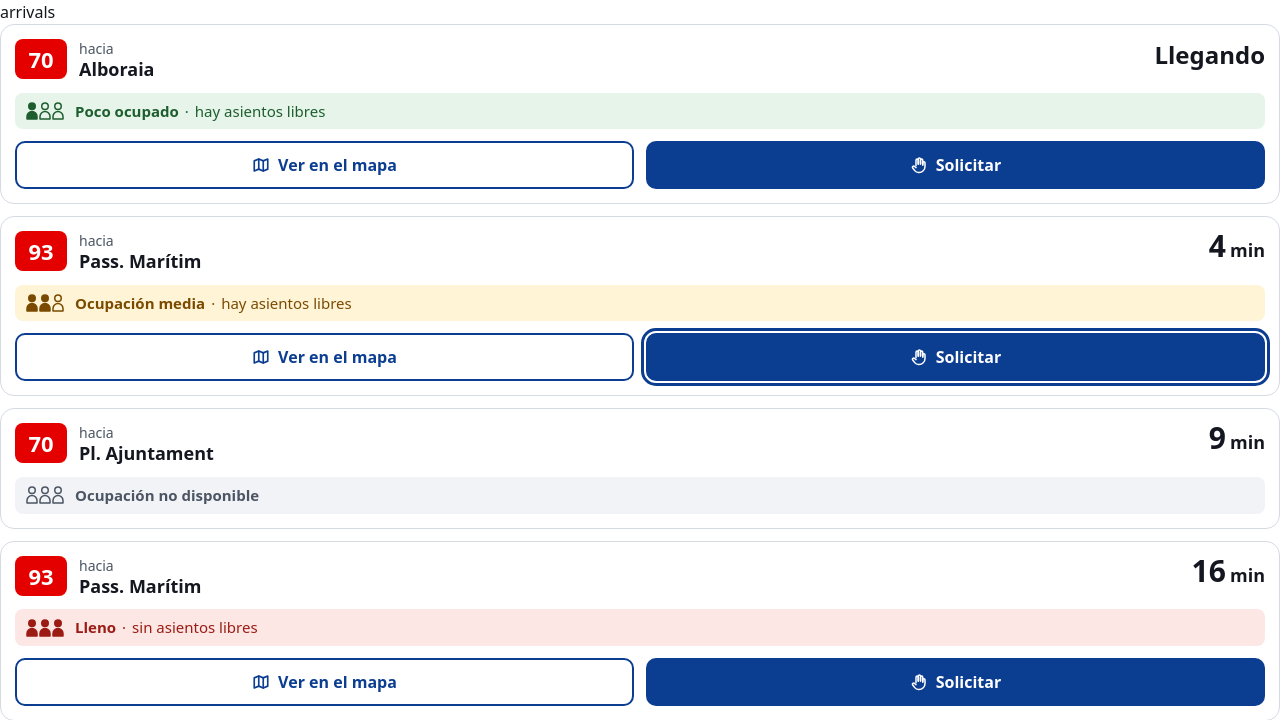
it: RequestDialog › [passenger_alert_ui.AC-04] "Solicitar" opens a modal dialog with the title, the arrival time and the needs preloaded
The width and height of the screenshot is (1280, 720).
Click the button named "Solicitar parada a la línea 93 hacia Passeig Marítim - Hospital Malva-rosa": (956, 357) [646,333,1265,381]
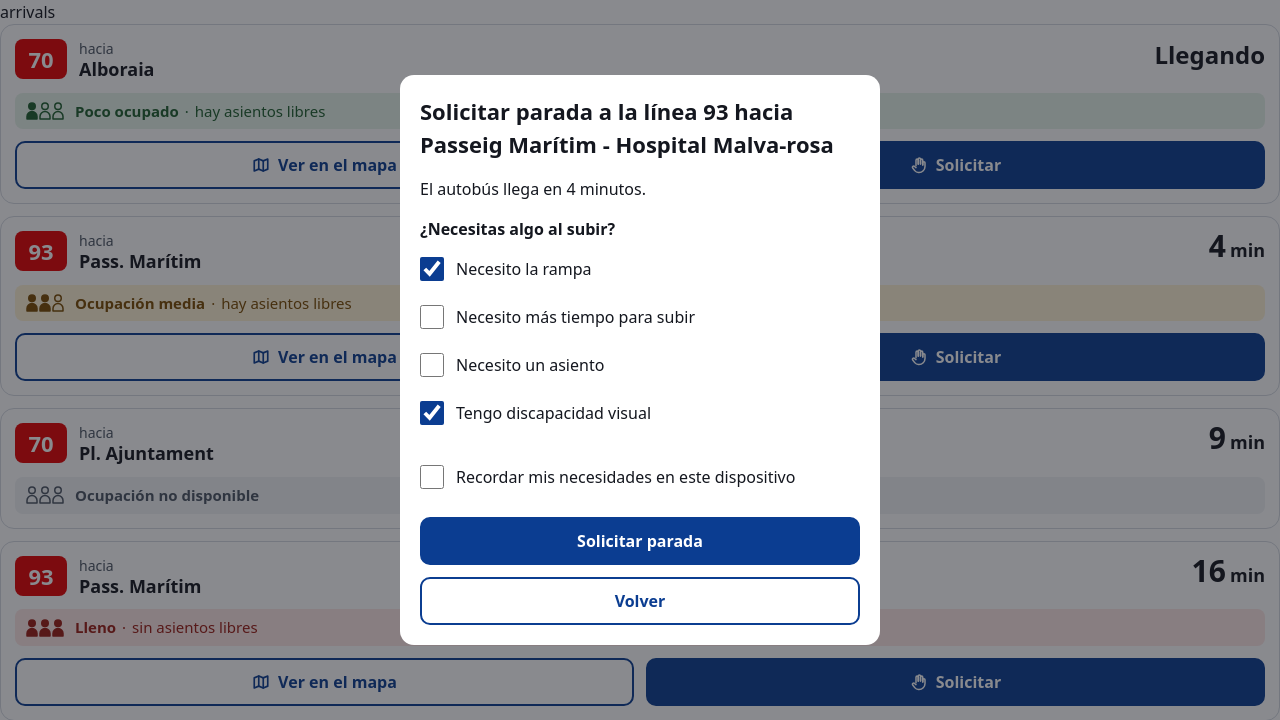
Result: the dialog shows "El autobús llega en 4 minutos." at [420,178,646,200]
Result: the checkbox labelled "Necesito la rampa" is checked at [420,257,444,281]
Result: the checkbox labelled "Tengo discapacidad visual" is checked at [420,401,444,425]
